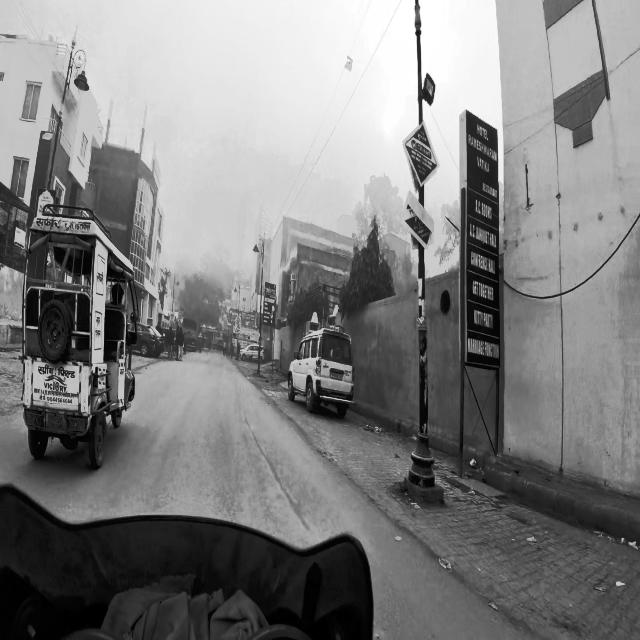Car: (286, 312, 358, 429)
Toto: (19, 196, 141, 474)
